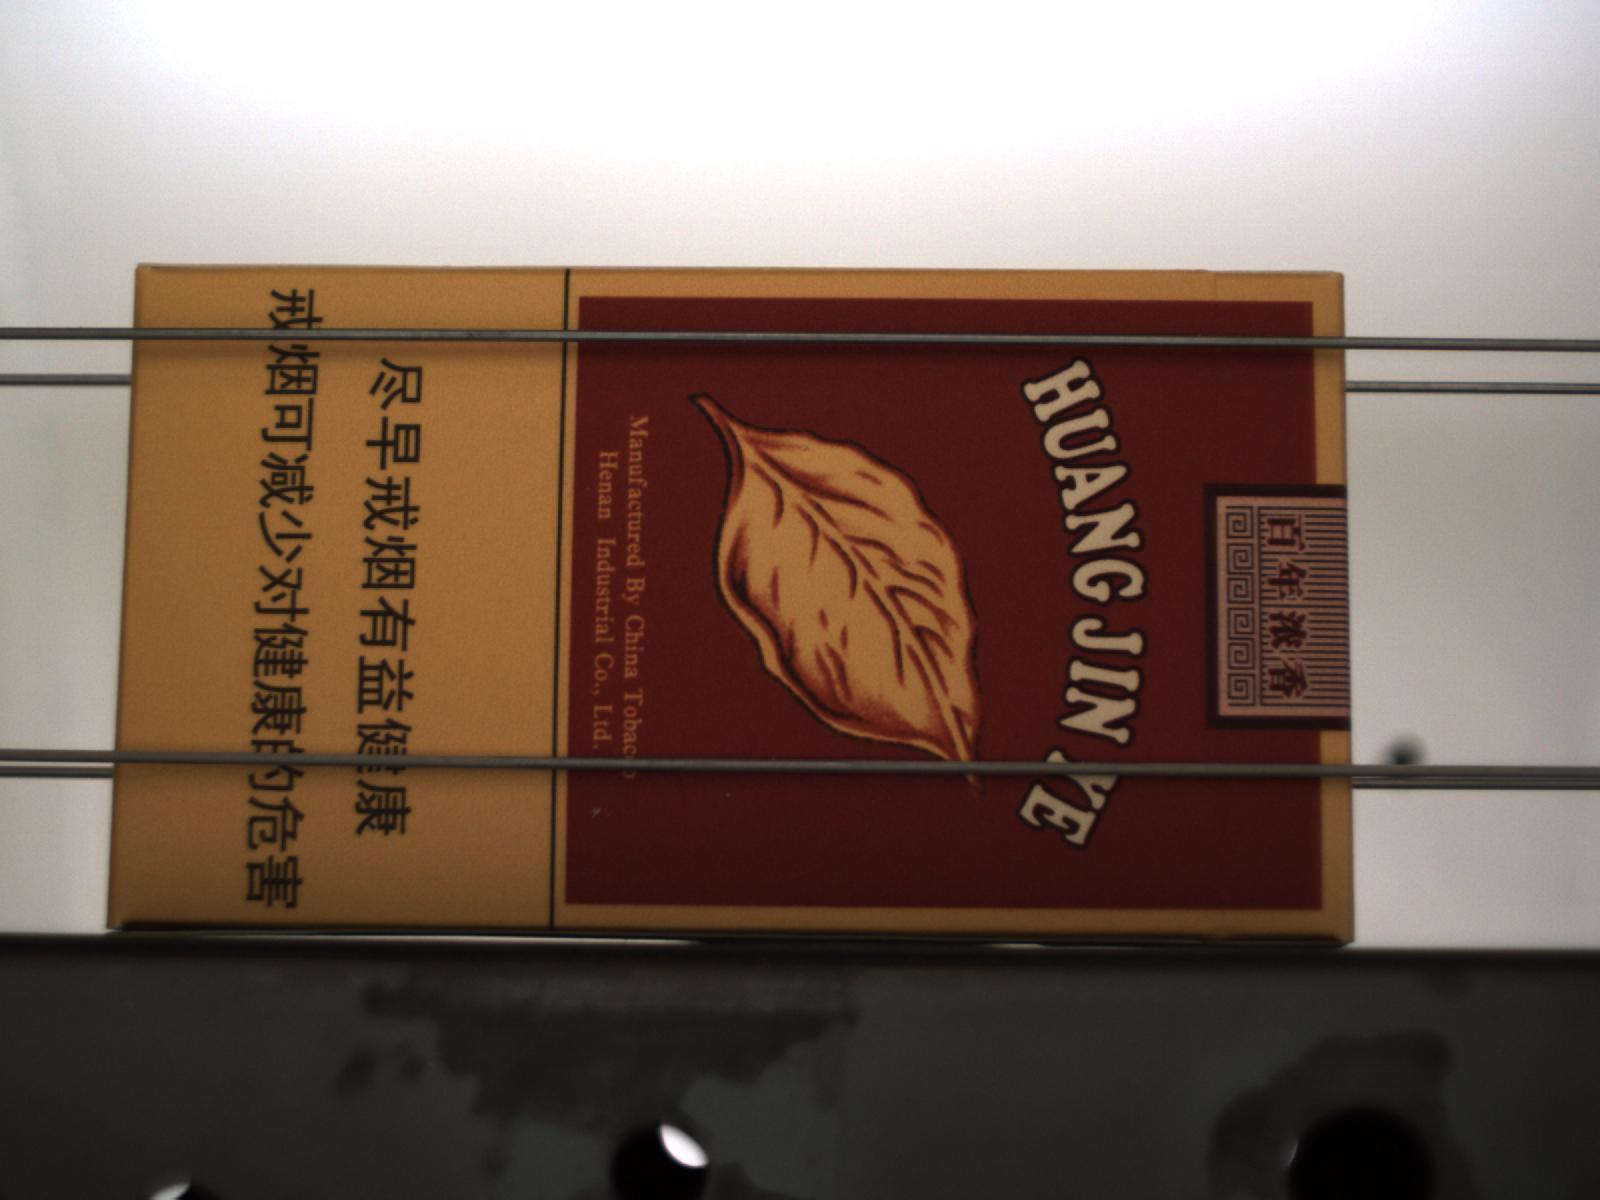dirtyPrint: (591, 807, 603, 819), (724, 792, 734, 802)
